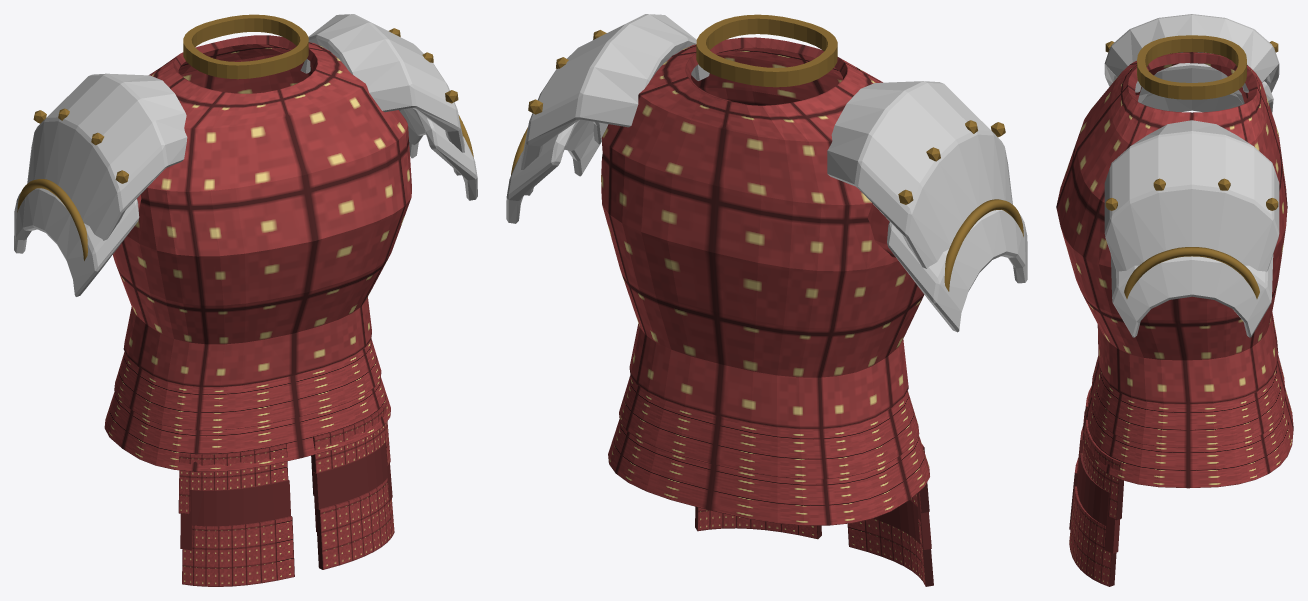
Rendered from brigandine.obj.
3 views of the same model, side by side, from view 1: azimuth 30°, elevation 25°; view 2: azimuth 150°, elevation 25°; view 3: azimuth 270°, elevation 25° (orthographic). The views are drawn at different scales.
Visible parts, largest first — view 1: A_Torso.001_brigandine_body, K_FoldedShoulder.001_brigandine_shoulder_shell, D_Fauld0.001_brigandine_body, D_Tasset2.001_brigandine_body, D_Fauld1.001_brigandine_body, K_Underlap.001_brigandine_shoulder_overlap, D_Tasset1.001_brigandine_shade, D_Tasset0.001_brigandine_body, B_NeckTrim.001_brigandine_trim, K_BoundEdge.001_brigandine_trim; view 2: A_Torso.001_brigandine_body, K_FoldedShoulder.001_brigandine_shoulder_shell, D_Fauld1.001_brigandine_body, D_Fauld0.001_brigandine_body, K_Underlap.001_brigandine_shoulder_overlap, B_NeckTrim.001_brigandine_trim, D_Tasset2.001_brigandine_body, K_BoundEdge.001_brigandine_trim, D_Tasset1.001_brigandine_shade; view 3: A_Torso.001_brigandine_body, K_FoldedShoulder.001_brigandine_shoulder_shell, K_Underlap.001_brigandine_shoulder_overlap, D_Fauld0.001_brigandine_body, D_Fauld1.001_brigandine_body, B_NeckTrim.001_brigandine_trim, D_Tasset2.001_brigandine_body, D_Tasset1.001_brigandine_shade, D_Tasset0.001_brigandine_body, K_BoundEdge.001_brigandine_trim.
Part boxes in pixels (bbox=[...]): A_Torso.001_brigandine_body: bbox=[113, 35, 411, 387]; K_FoldedShoulder.001_brigandine_shoulder_shell: bbox=[27, 14, 464, 240]; D_Fauld0.001_brigandine_body: bbox=[114, 338, 381, 430]; D_Tasset2.001_brigandine_body: bbox=[182, 478, 394, 586]; D_Fauld1.001_brigandine_body: bbox=[104, 377, 390, 471]; K_Underlap.001_brigandine_shoulder_overlap: bbox=[14, 108, 477, 296]; D_Tasset1.001_brigandine_shade: bbox=[180, 442, 392, 550]; D_Tasset0.001_brigandine_body: bbox=[178, 403, 390, 514]; B_NeckTrim.001_brigandine_trim: bbox=[183, 14, 308, 79]; K_BoundEdge.001_brigandine_trim: bbox=[17, 115, 473, 260]; A_Torso.001_brigandine_body: bbox=[601, 37, 924, 429]; K_FoldedShoulder.001_brigandine_shoulder_shell: bbox=[521, 14, 1012, 268]; D_Fauld1.001_brigandine_body: bbox=[608, 419, 929, 525]; D_Fauld0.001_brigandine_body: bbox=[619, 375, 919, 479]; K_Underlap.001_brigandine_shoulder_overlap: bbox=[506, 119, 1027, 332]; B_NeckTrim.001_brigandine_trim: bbox=[696, 14, 837, 87]; D_Tasset2.001_brigandine_body: bbox=[695, 506, 933, 586]; K_BoundEdge.001_brigandine_trim: bbox=[511, 127, 1023, 291]; D_Tasset1.001_brigandine_shade: bbox=[873, 492, 931, 549]; A_Torso.001_brigandine_body: bbox=[1056, 52, 1287, 404]; K_FoldedShoulder.001_brigandine_shoulder_shell: bbox=[1104, 14, 1279, 272]; K_Underlap.001_brigandine_shoulder_overlap: bbox=[1110, 63, 1273, 337]; D_Fauld0.001_brigandine_body: bbox=[1091, 354, 1285, 447]; D_Fauld1.001_brigandine_body: bbox=[1083, 387, 1293, 488]; B_NeckTrim.001_brigandine_trim: bbox=[1137, 35, 1246, 99]; D_Tasset2.001_brigandine_body: bbox=[1069, 458, 1116, 586]; D_Tasset1.001_brigandine_shade: bbox=[1077, 426, 1120, 553]; D_Tasset0.001_brigandine_body: bbox=[1082, 386, 1123, 520]; K_BoundEdge.001_brigandine_trim: bbox=[1124, 247, 1259, 298].
Bounding box in the file's own units: 2.47 × 2.86 × 1.29.
